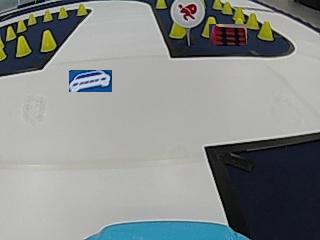thief: (170, 0, 205, 26)
